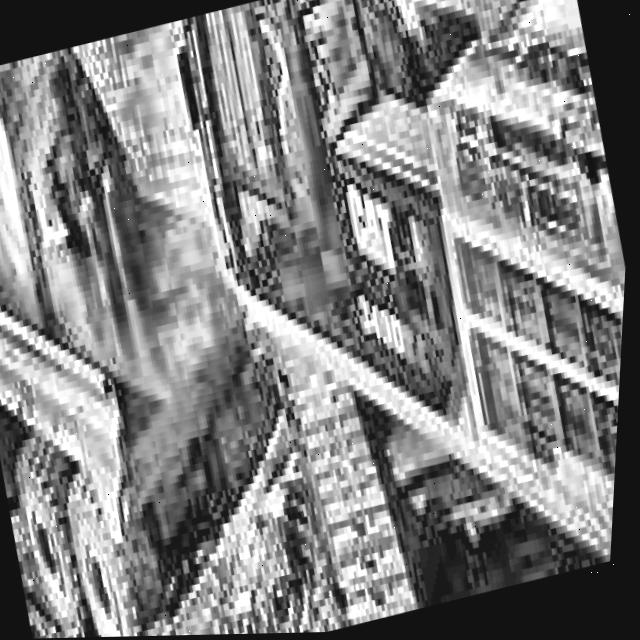dump_truck: (0, 11, 348, 640)
excavator: (0, 0, 640, 640)
